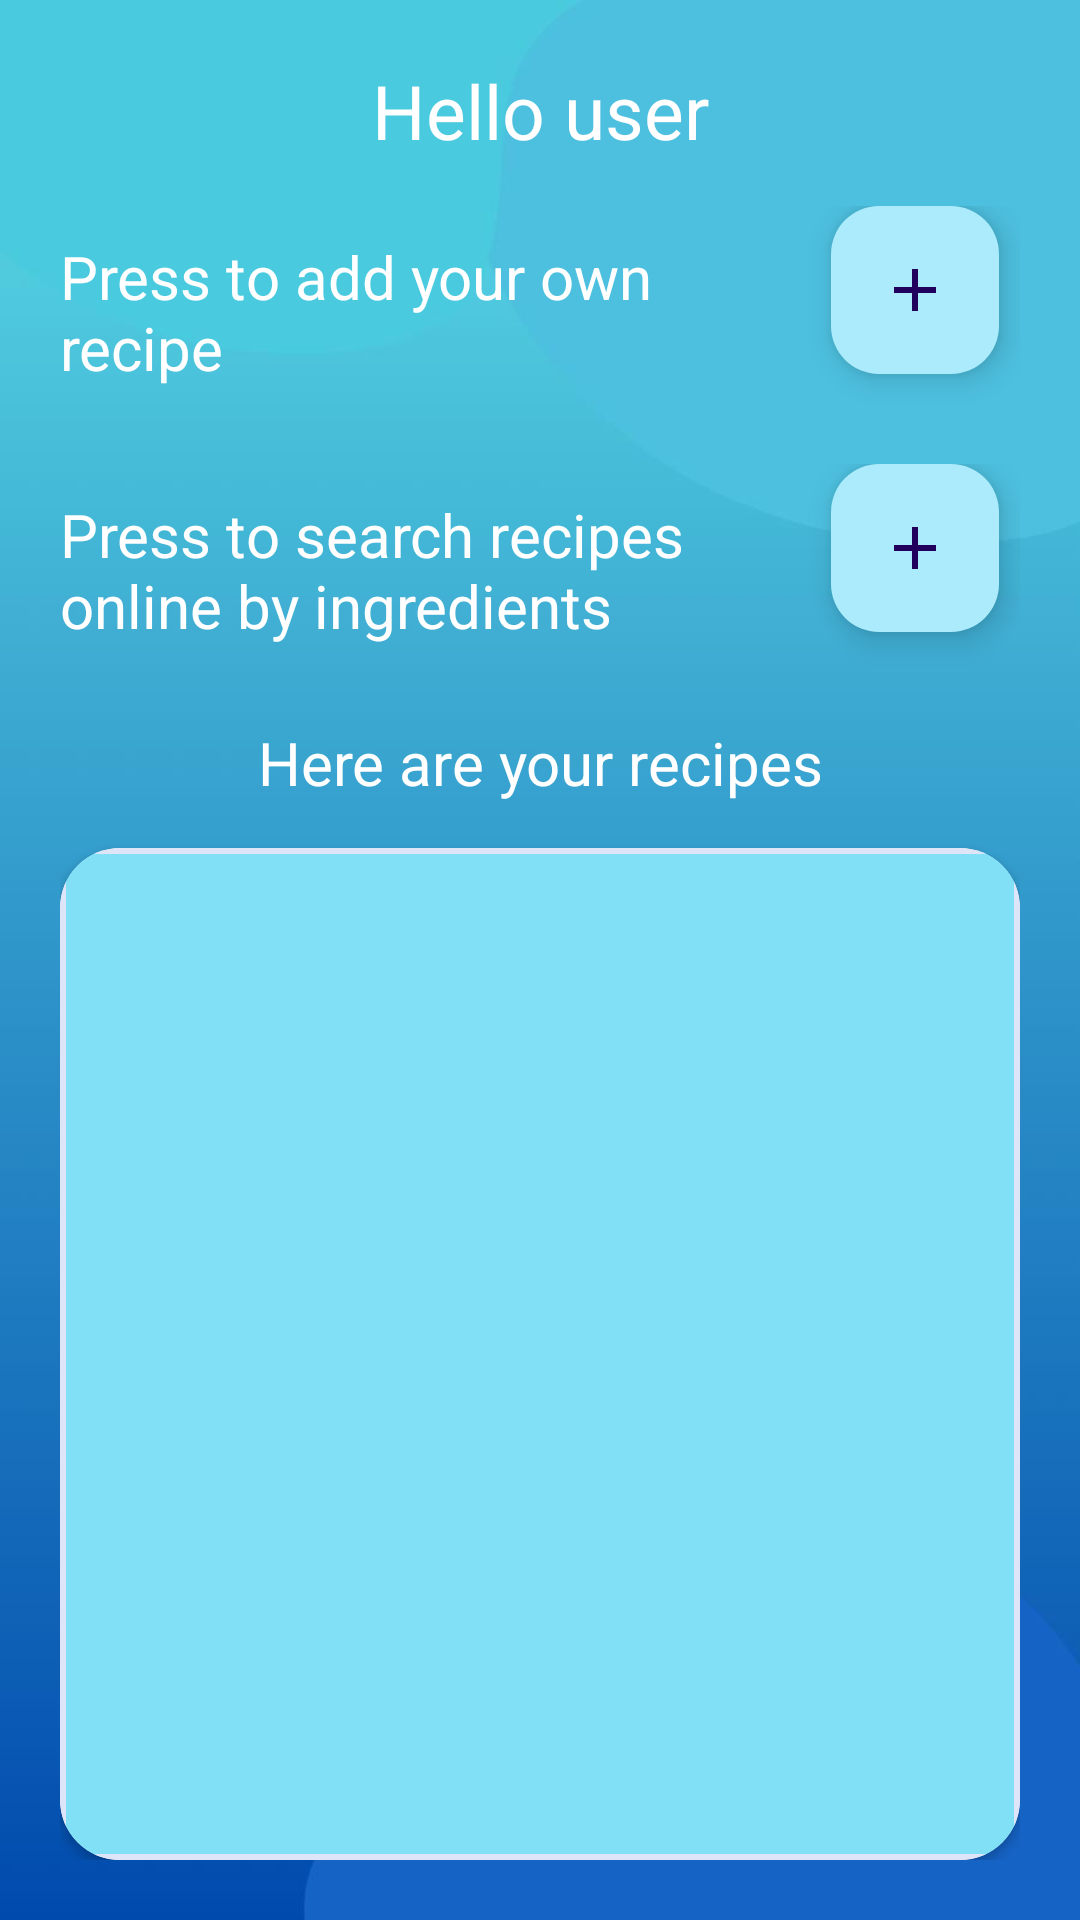

Icons on this 1080px x 1920px Android screen, each with its box as (x1, y1, x2, y2):
plus: (831, 206, 999, 374), (831, 464, 999, 632)
